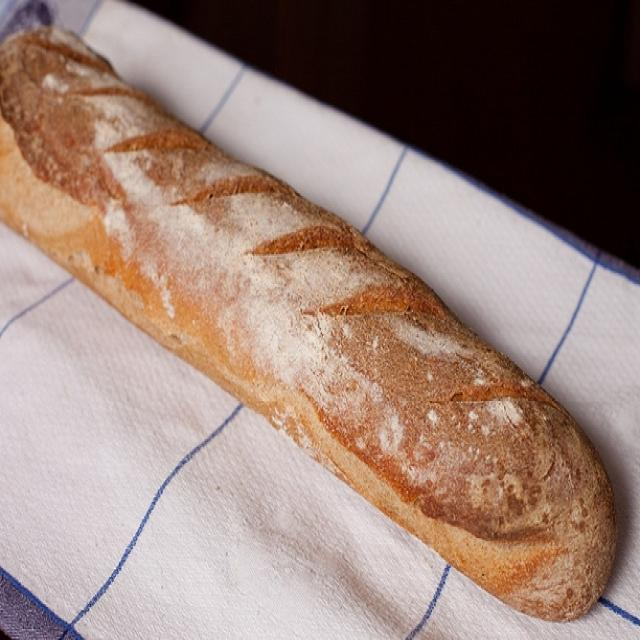面包点心: (1, 2, 621, 621)
